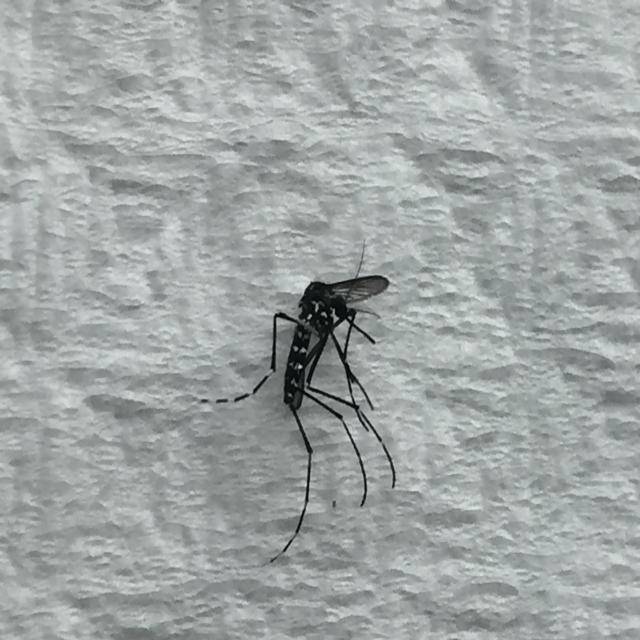albopictus: (186, 236, 408, 551)
